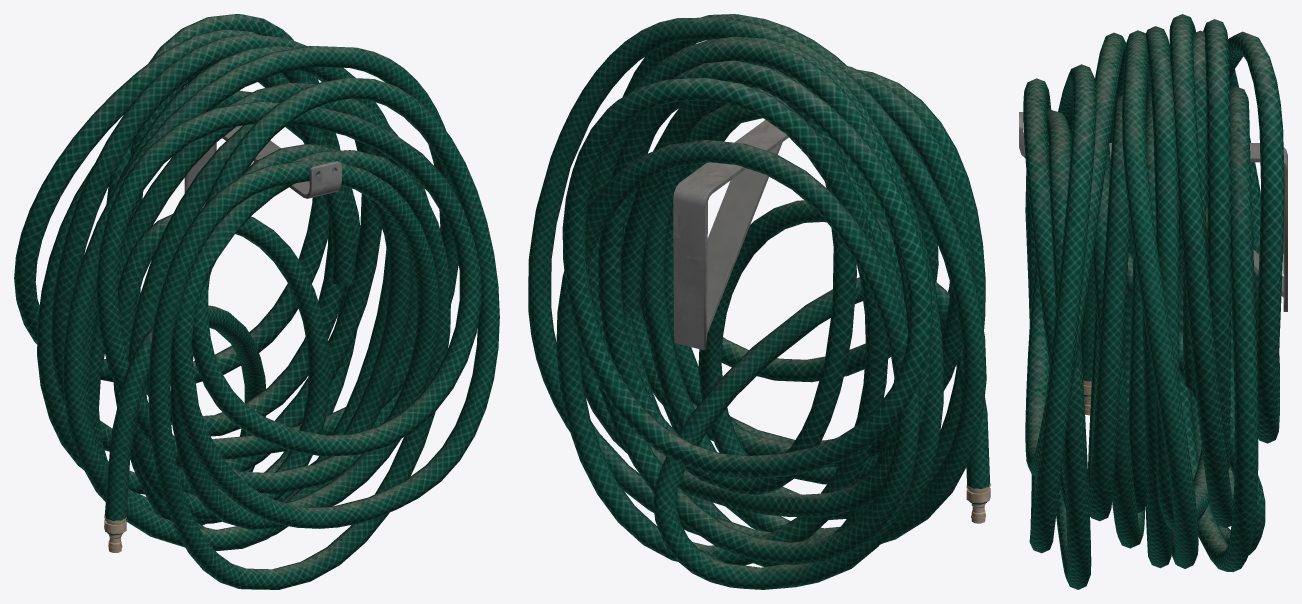
File: ph-garden_hose_wall_mounted_01.glb
3 renders of one model, left to right at view 1: azimuth 30°, elevation 25°; view 2: azimuth 150°, elevation 25°; view 3: azimuth 270°, elevation 25°, orthographic. The views are drawn at different scales.
Visible parts, largest first — view 1: garden_hose_wall_bracket; view 2: garden_hose_wall_bracket; view 3: garden_hose_wall_bracket.
Boxes of the visible parts, x1,y1,x2,y2 form: garden_hose_wall_bracket: [14, 14, 499, 589]; garden_hose_wall_bracket: [528, 14, 990, 589]; garden_hose_wall_bracket: [1019, 14, 1287, 589].
Size of the model in its own units: 0.4667 by 0.557 by 0.2503.
1 material, 1 textured.
